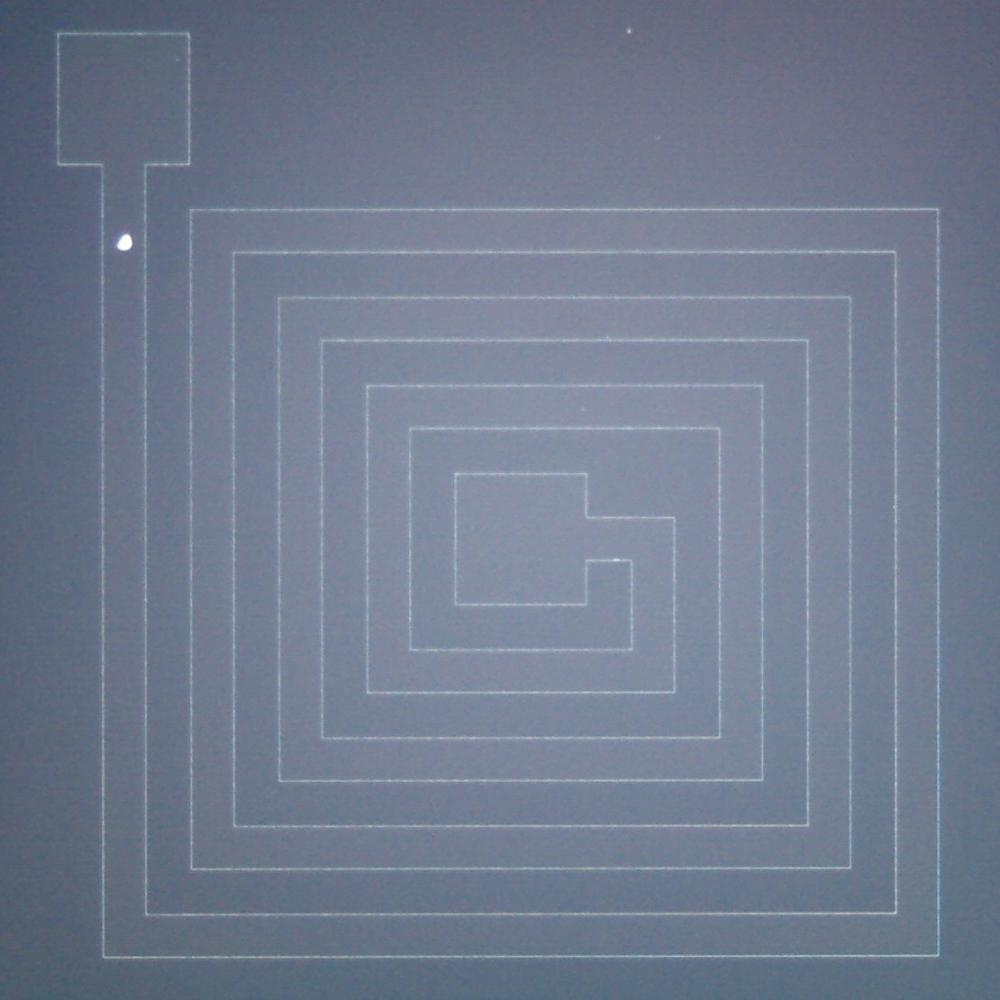dot: (116, 234, 132, 252), (627, 30, 631, 33)
